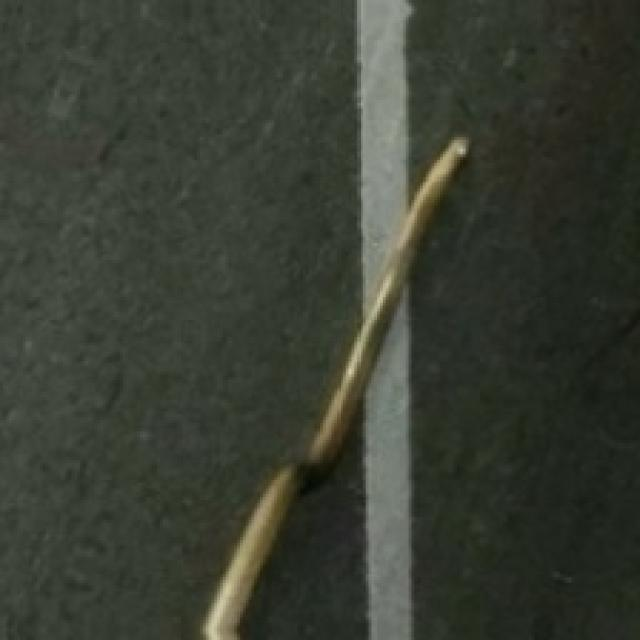king cobra: (203, 137, 466, 637)
